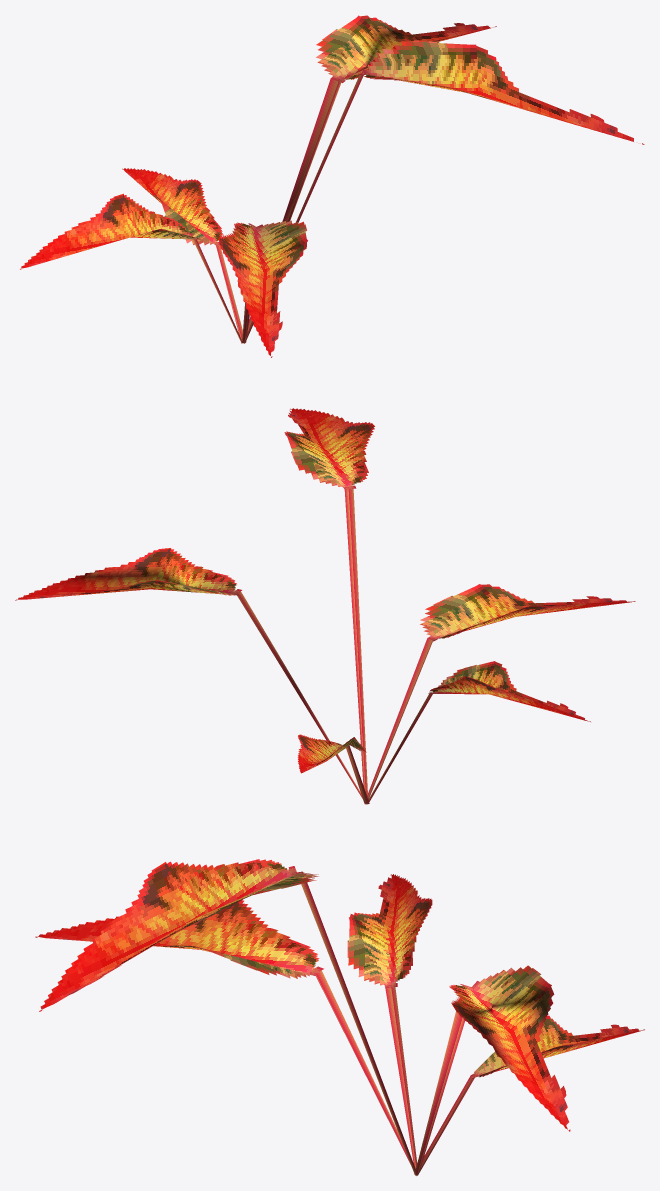
The model's file is Plant2.obj.
3 views of the same model, one above another, from view 1: azimuth 30°, elevation 25°; view 2: azimuth 150°, elevation 25°; view 3: azimuth 270°, elevation 25° (orthographic). The views are drawn at different scales.
Bounding box in the file's own units: 35.69 × 19.21 × 29.62.
2 materials, 2 textured.
